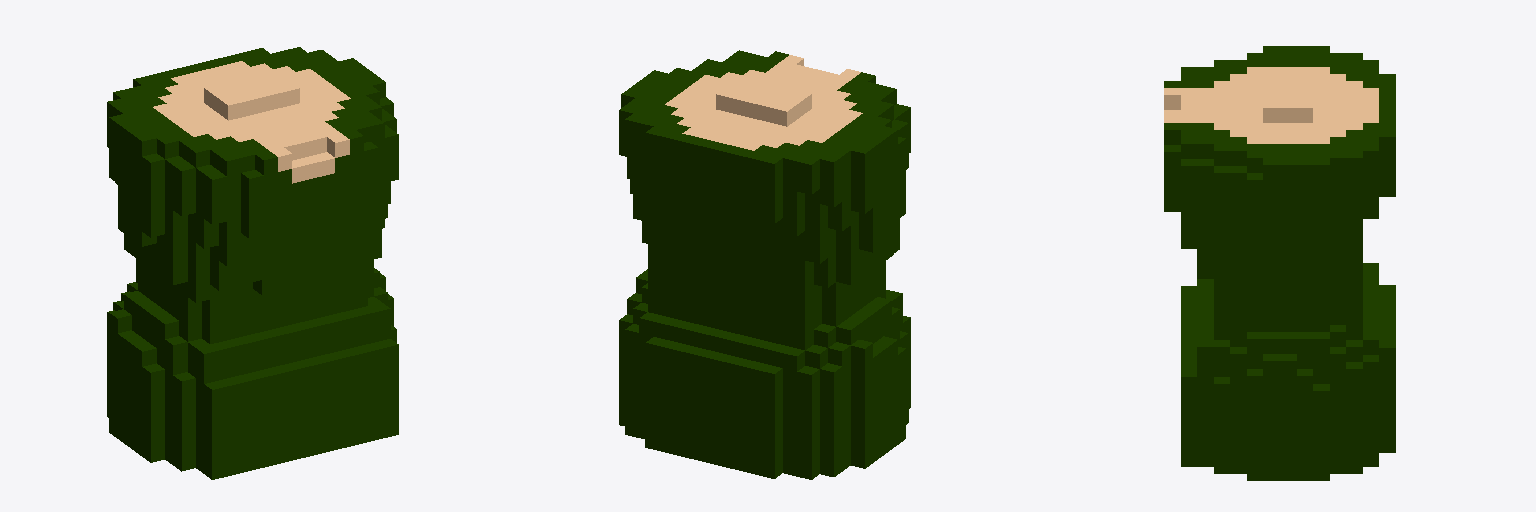
3 views of the same model, side by side, from view 1: azimuth 30°, elevation 25°; view 2: azimuth 150°, elevation 25°; view 3: azimuth 270°, elevation 25° (orthographic).
Visible parts, largest first — view 1: object 1; view 2: object 1; view 3: object 1.
Boxes of the visible parts, box(x1,y1,x2,y2) form: object 1: box(107, 47, 398, 479); object 1: box(619, 50, 910, 479); object 1: box(1164, 46, 1395, 480).
Size of the model in its own units: 1.7 by 2.2 by 1.4.
1 materials, 1 textured.